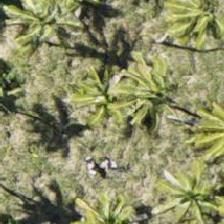coconut_tree: (52, 54, 142, 144), (98, 57, 188, 147), (131, 140, 221, 223), (0, 0, 84, 66), (61, 167, 151, 223), (155, 0, 223, 64)
